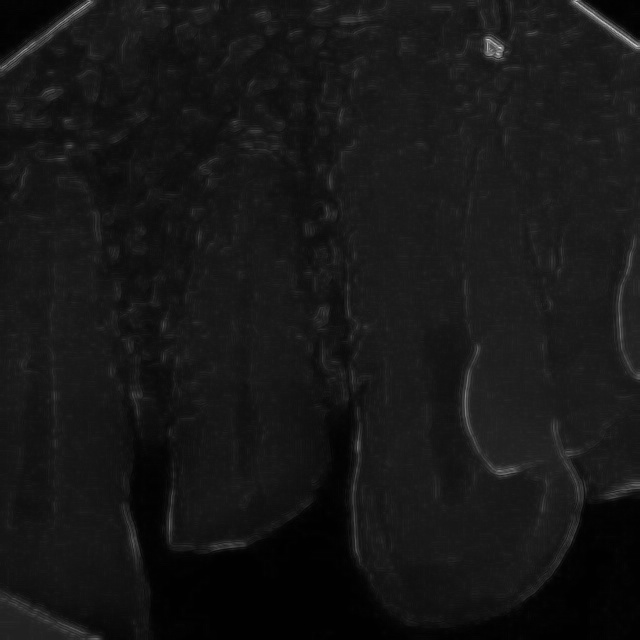cavity: (115, 84, 402, 584)
